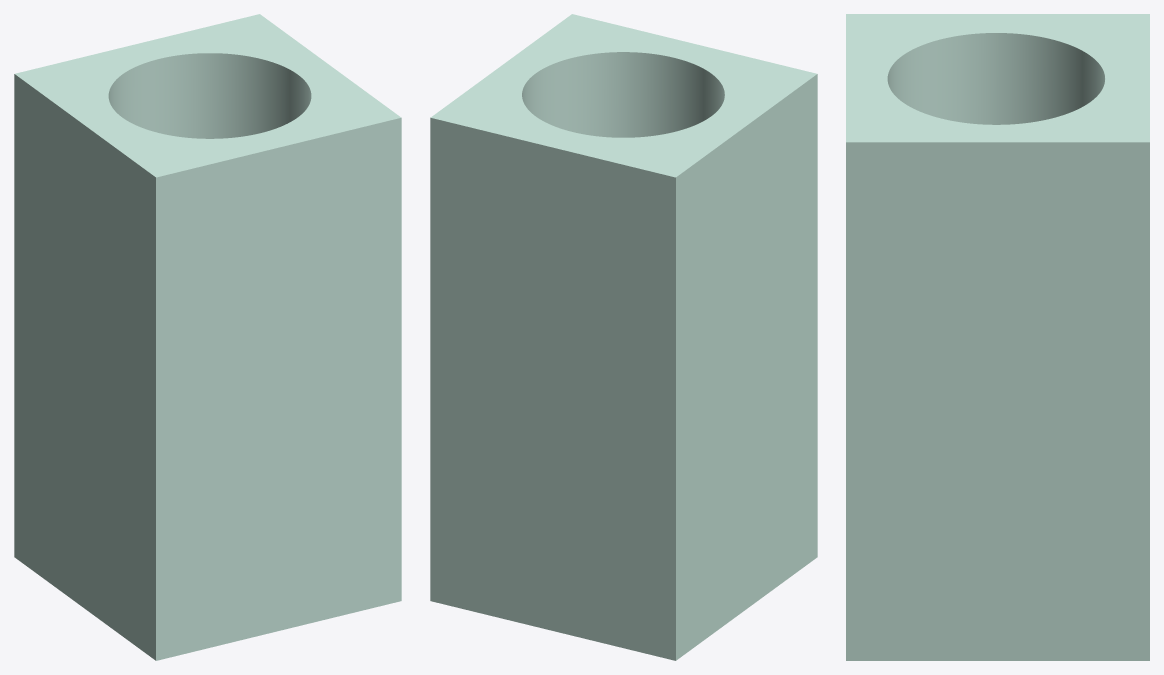
3 views of the same model, side by side, from view 1: azimuth 30°, elevation 25°; view 2: azimuth 150°, elevation 25°; view 3: azimuth 270°, elevation 25° (orthographic). The views are drawn at different scales.
Visible parts, largest first — view 1: Renderer Node; view 2: Renderer Node; view 3: Renderer Node.
Part boxes in pixels (x1=…): Renderer Node: x1=14, y1=14, x2=401, y2=660; Renderer Node: x1=430, y1=14, x2=817, y2=660; Renderer Node: x1=846, y1=14, x2=1149, y2=660.
Size of the model in its own units: 0.3984 by 0.75 by 0.3984.
